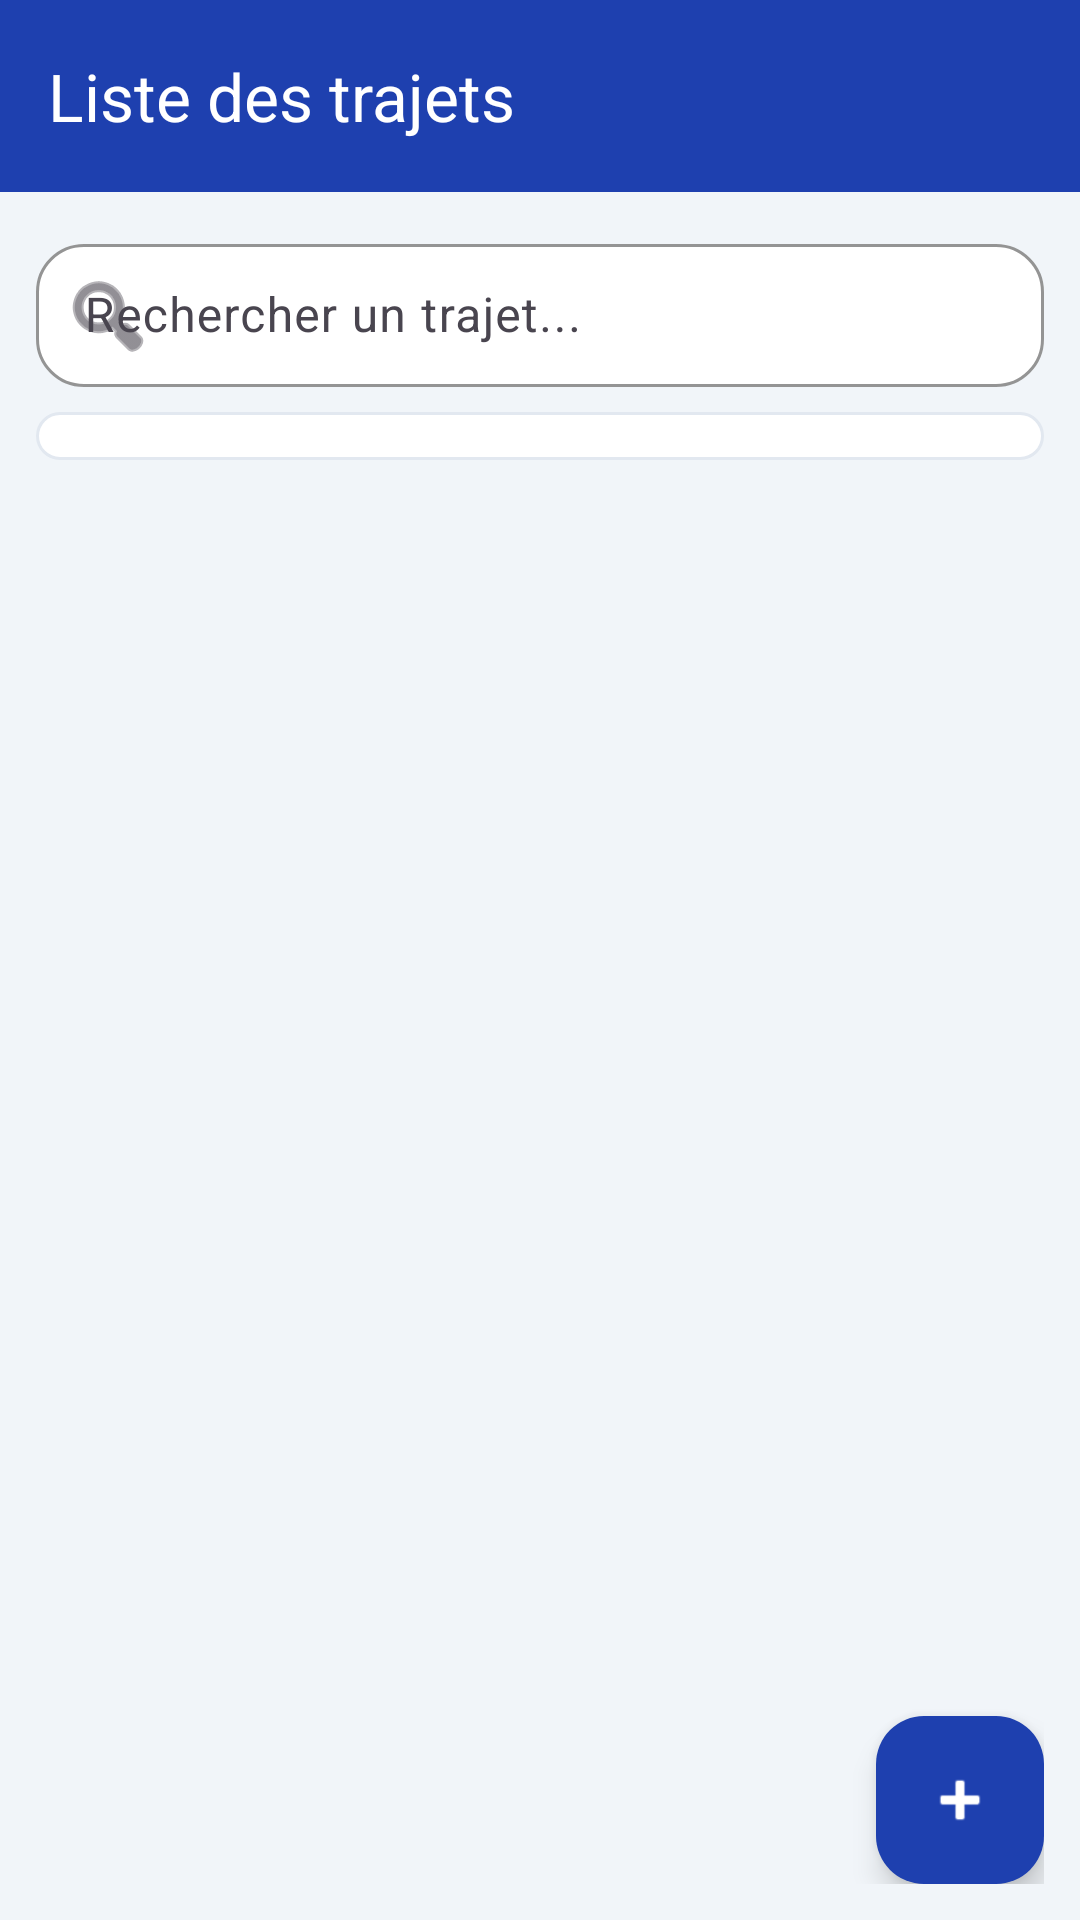

Where icons sit on this 1080px x 1920px app screen, as detection(x1, y1, x2, y2):
Ajouter un trajet: detection(876, 1716, 1044, 1884)
